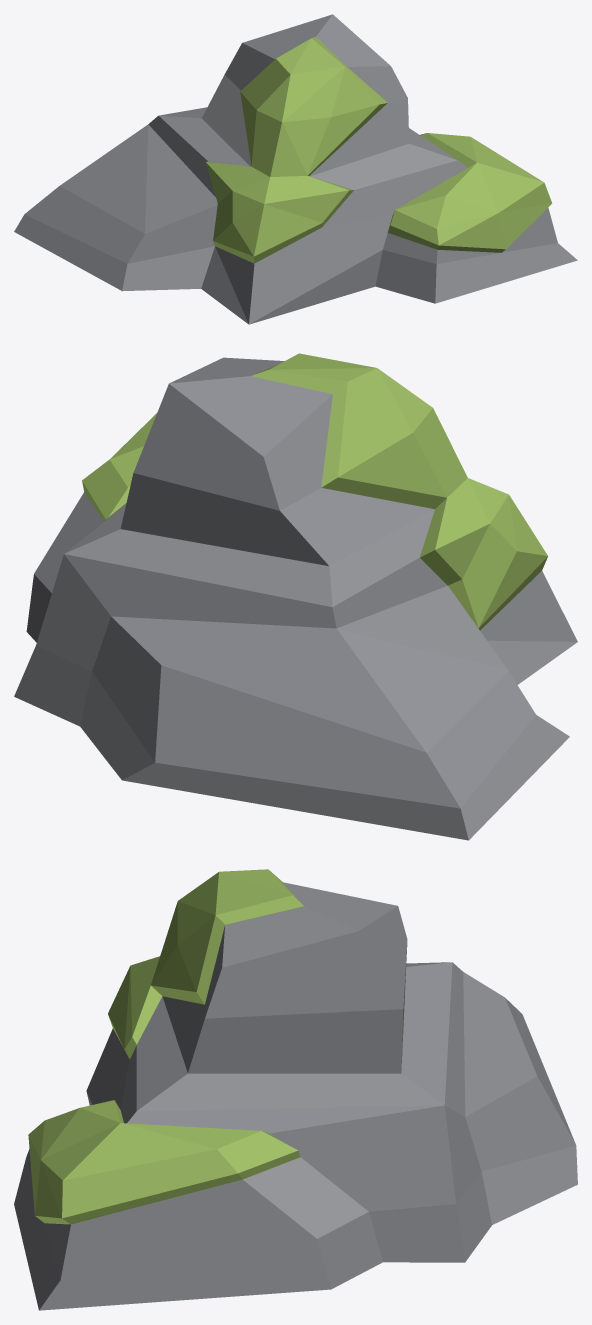
File: stone_with_moss_2.obj
3 renders of one model, top to bottom at view 1: azimuth 30°, elevation 25°; view 2: azimuth 150°, elevation 25°; view 3: azimuth 270°, elevation 25°, orthographic. The views are drawn at different scales.
Parts seen in each view (by area): view 1: stone_with_moss_2_Cube.035; view 2: stone_with_moss_2_Cube.035; view 3: stone_with_moss_2_Cube.035.
Part boxes in pixels (box(x1,y1,x2,y2)): stone_with_moss_2_Cube.035: box(14, 14, 577, 324); stone_with_moss_2_Cube.035: box(14, 353, 577, 840); stone_with_moss_2_Cube.035: box(14, 869, 577, 1310).
Size of the model in its own units: 2.2 by 1.08 by 1.9.
